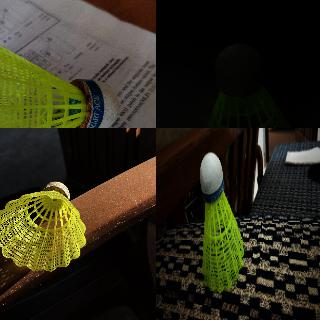shuttlecock: (0, 25, 119, 127), (200, 45, 301, 127), (0, 181, 85, 272), (199, 152, 244, 292)
